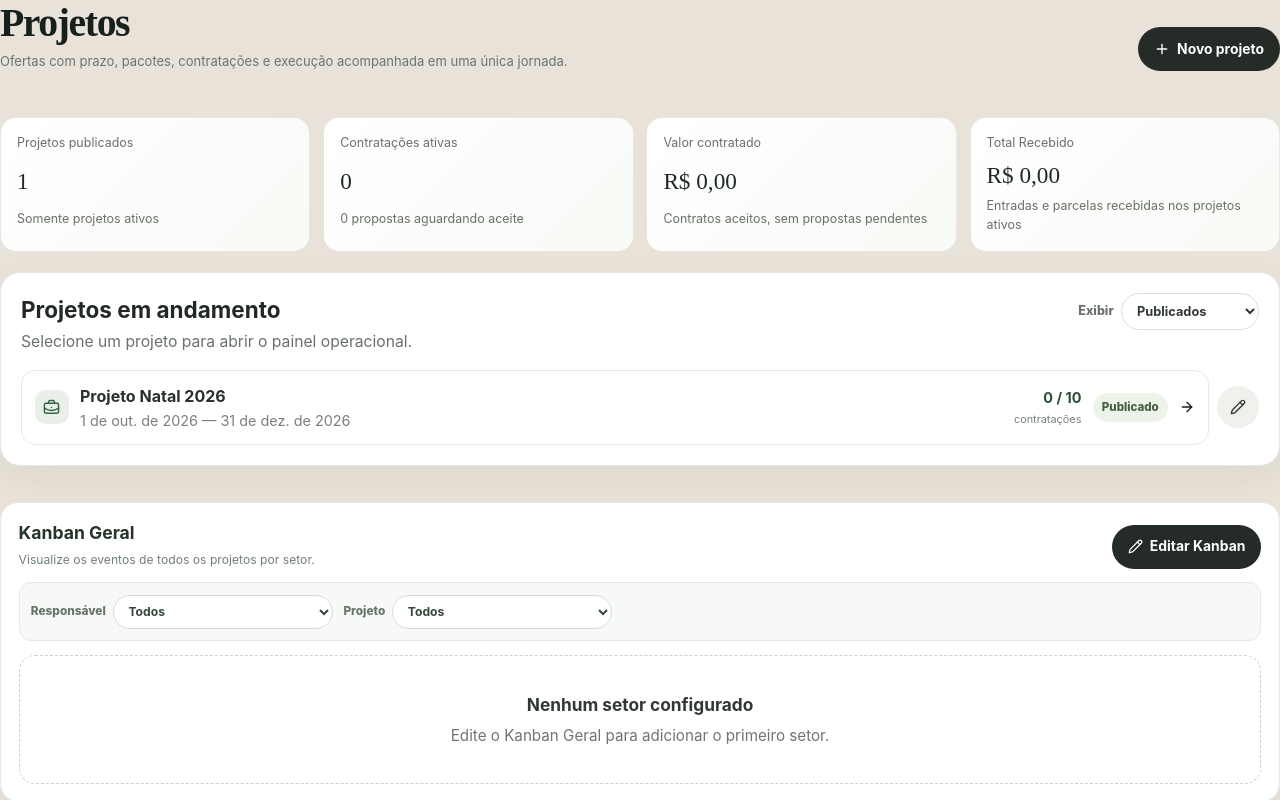
it: projects navigation › opens the new-project modal prefilled for editing
Click the button named "Editar projeto Projeto Natal 2026" at [1238, 407], box [1217, 386, 1259, 428]
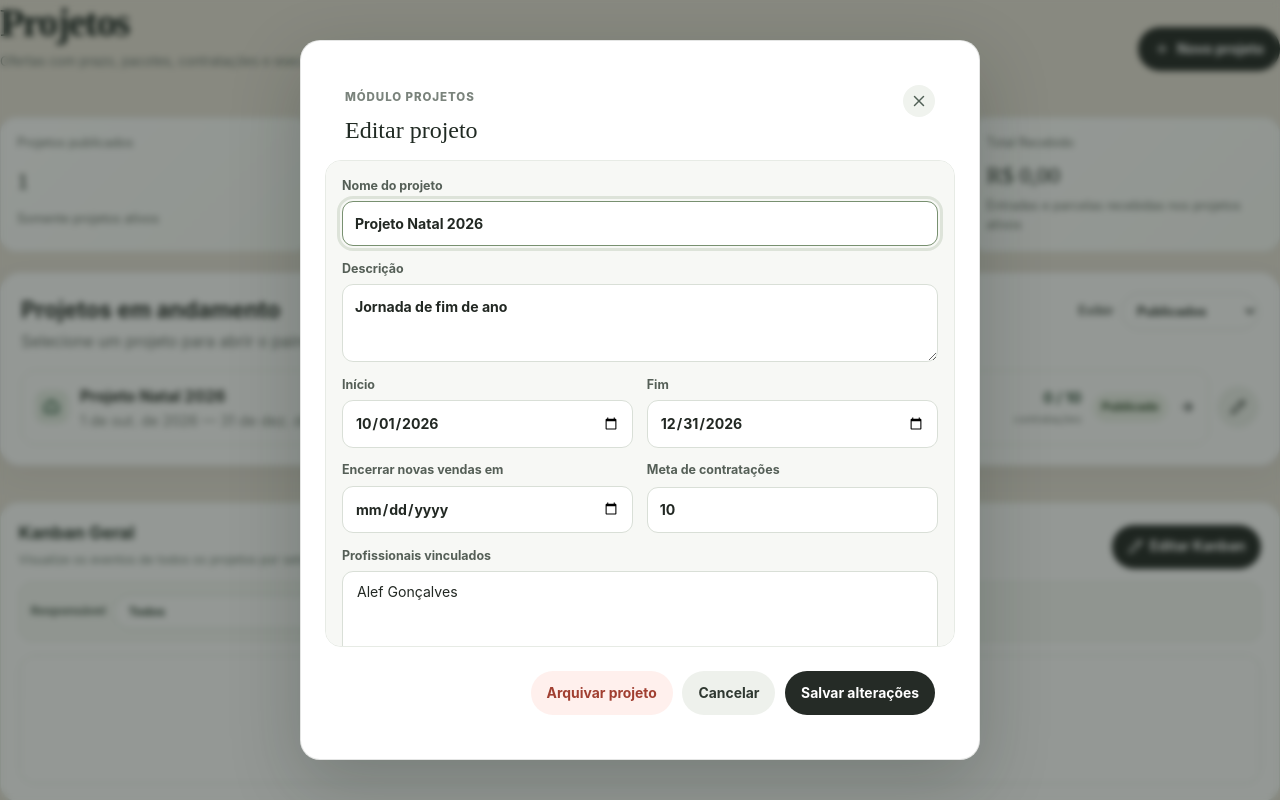
Result: the dialog "Editar projeto" is shown at [300, 40, 980, 760]
Result: the field labelled "Nome do projeto" holds "Projeto Natal 2026" at [342, 201, 938, 246]
Result: the text box labelled "Descrição" holds "Jornada de fim de ano" at [342, 284, 938, 362]
